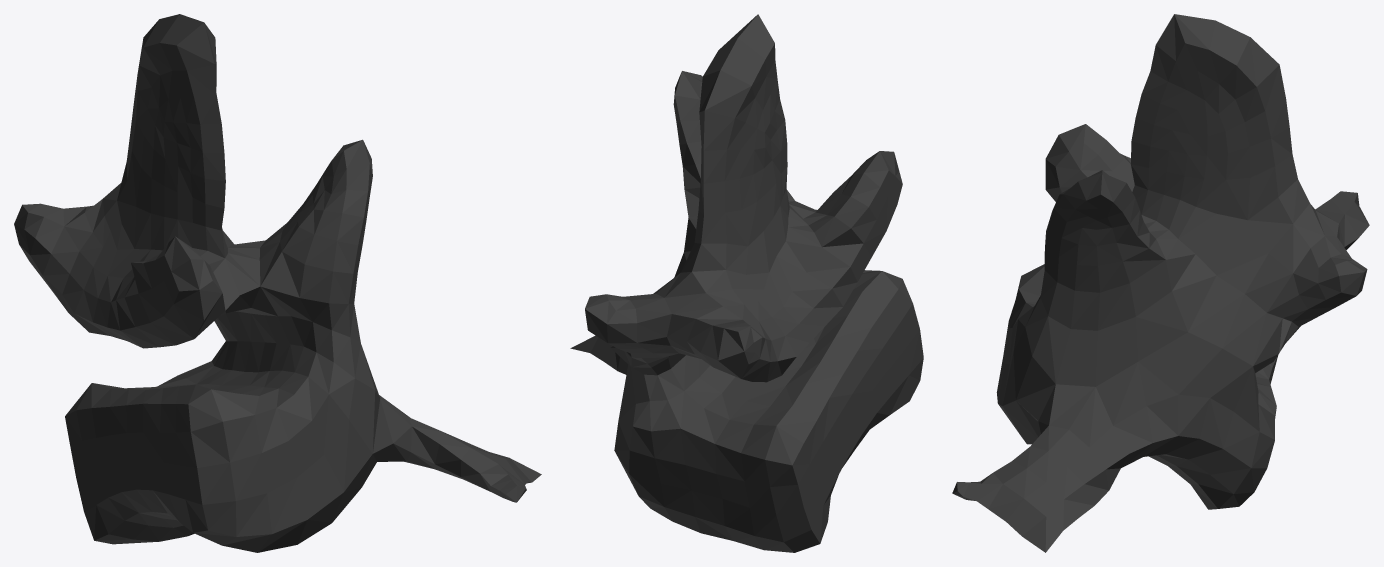
3 renders of one model, left to right at view 1: azimuth 30°, elevation 25°; view 2: azimuth 150°, elevation 25°; view 3: azimuth 270°, elevation 25°, orthographic. The views are drawn at different scales.
Parts seen in each view (by area): view 1: L2; view 2: L2; view 3: L2.
Boxes of the visible parts, <box> form: L2: <box>14,14,541,552</box>; L2: <box>570,14,923,552</box>; L2: <box>952,14,1369,552</box>.
Bounding box in the file's own units: 0.0103 × 0.0147 × 0.0116.
Materials: 1 (1 with a texture image).
